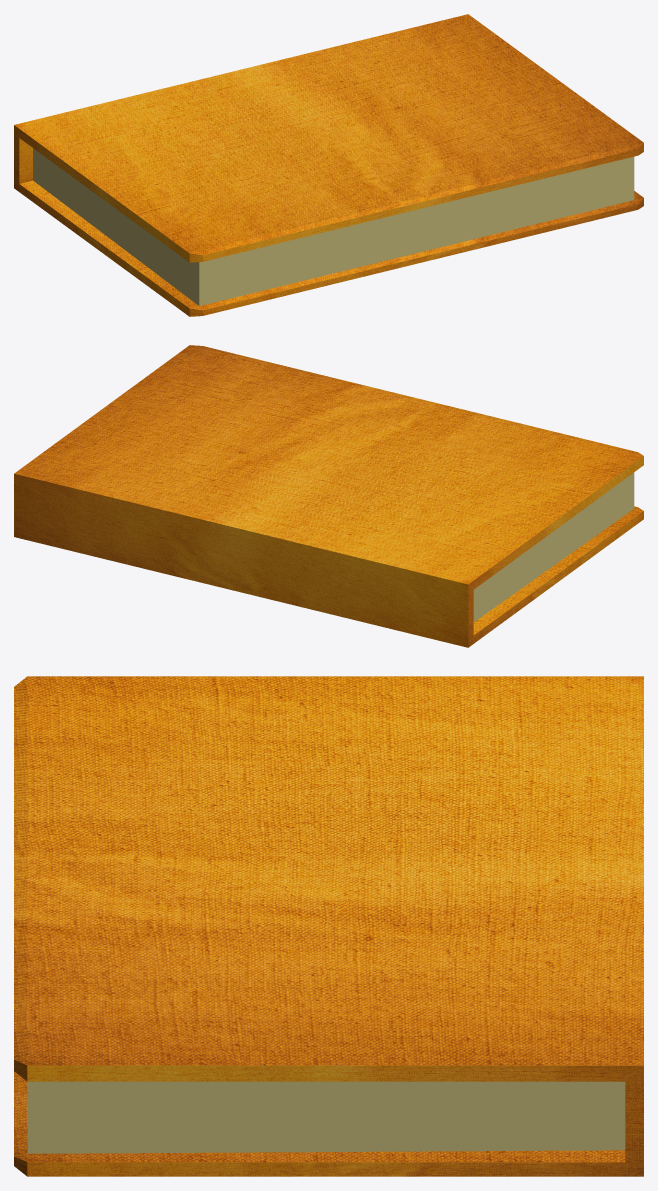
File: Tome_Closed.fbx
The picture shows the model from 3 angles, top to bottom: view 1: azimuth 30°, elevation 25°; view 2: azimuth 150°, elevation 25°; view 3: azimuth 270°, elevation 25°; orthographic projection. The views are drawn at different scales.
Parts seen in each view (by area): view 1: Book_Clothbound; view 2: Book_Clothbound; view 3: Book_Clothbound.
Part boxes in pixels (x1=…): Book_Clothbound: x1=14, y1=14, x2=643, y2=316; Book_Clothbound: x1=14, y1=345, x2=643, y2=647; Book_Clothbound: x1=14, y1=676, x2=643, y2=1176.
Bounding box in the file's own units: 200 × 26.63 × 137.
2 materials, 1 textured.
